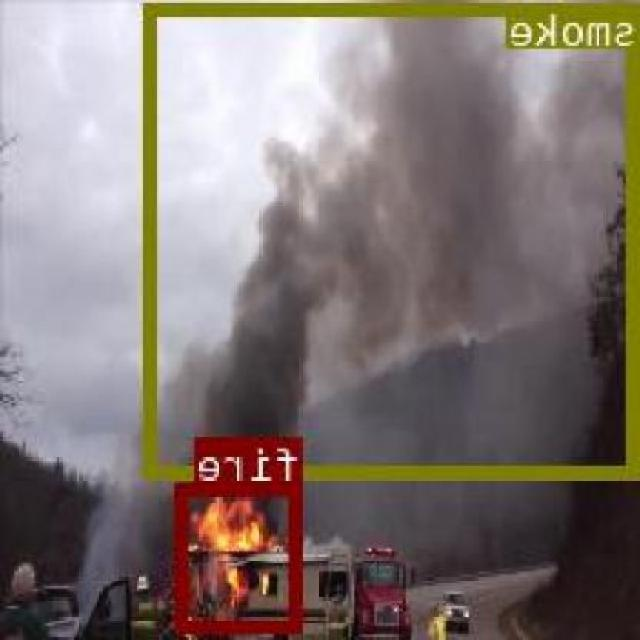Fire: (180, 482, 306, 630)
Smoke: (146, 0, 640, 475)
